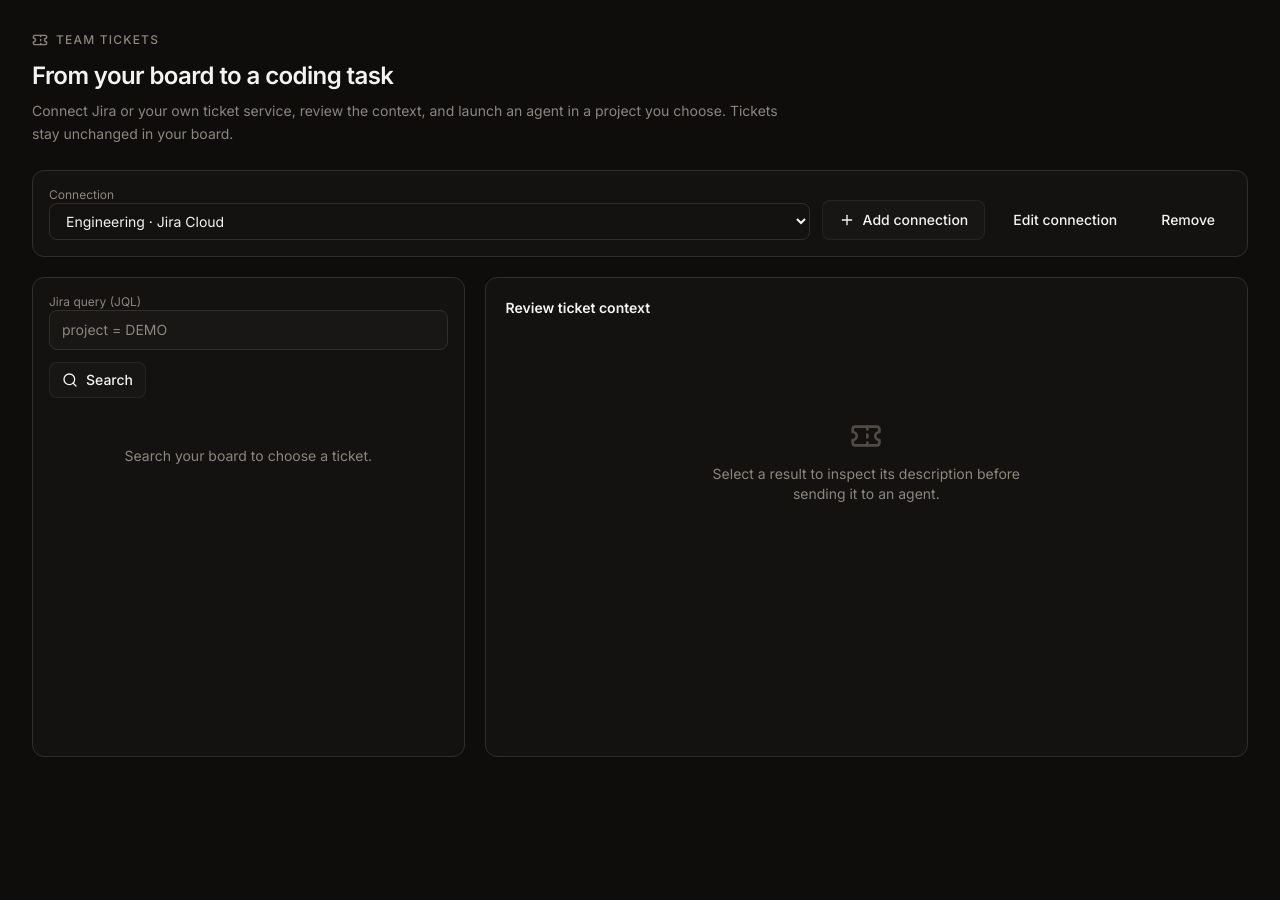
desktop ticket intake › removes a connection only after confirmation and clears the preview
Click the button "Search" at (98, 380), box [49,362,146,398]
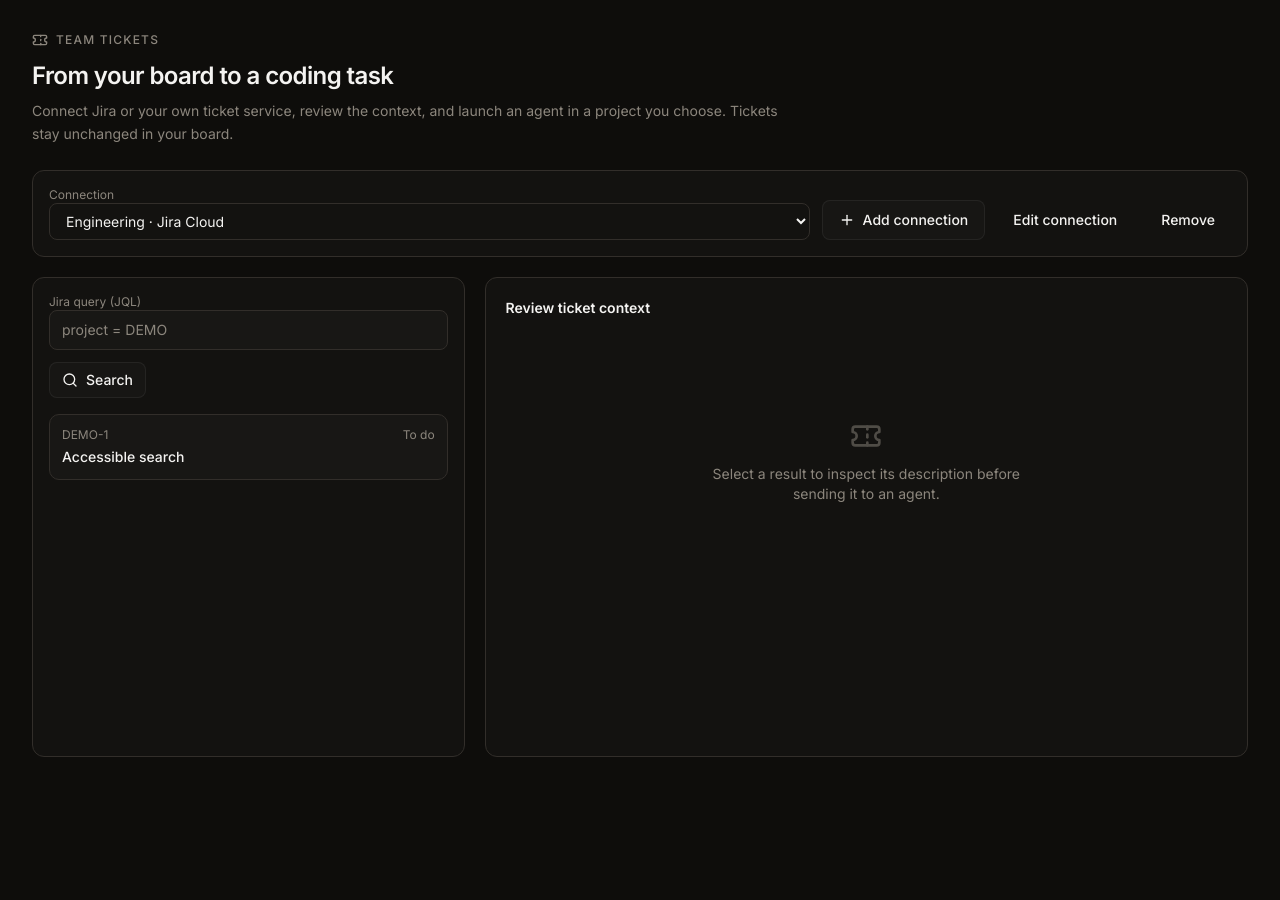
Click the button "DEMO-1 To do Accessible search" at (85, 434), box [49,414,448,480]
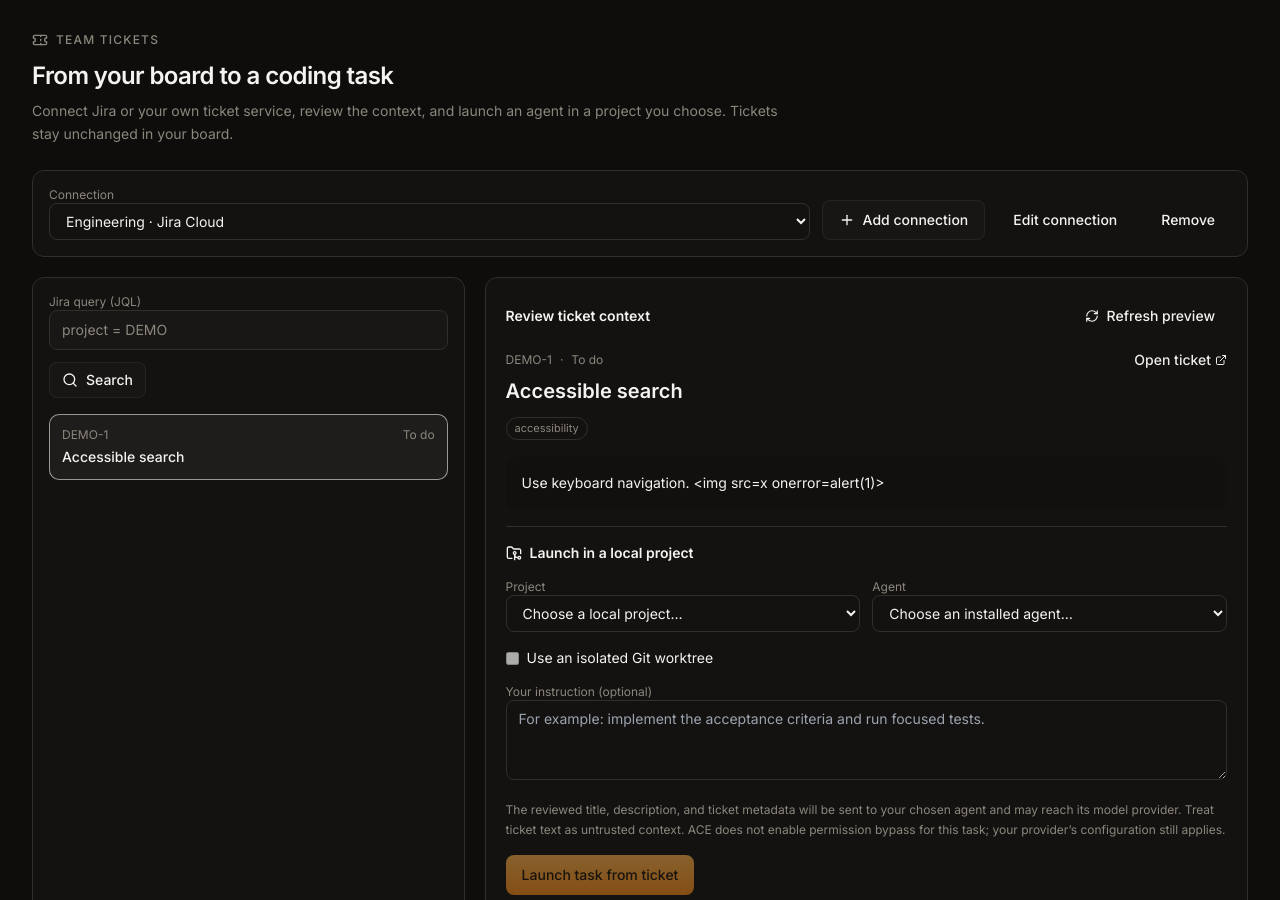
Click the button "Remove" at (1188, 220), box [1145,200,1231,240]
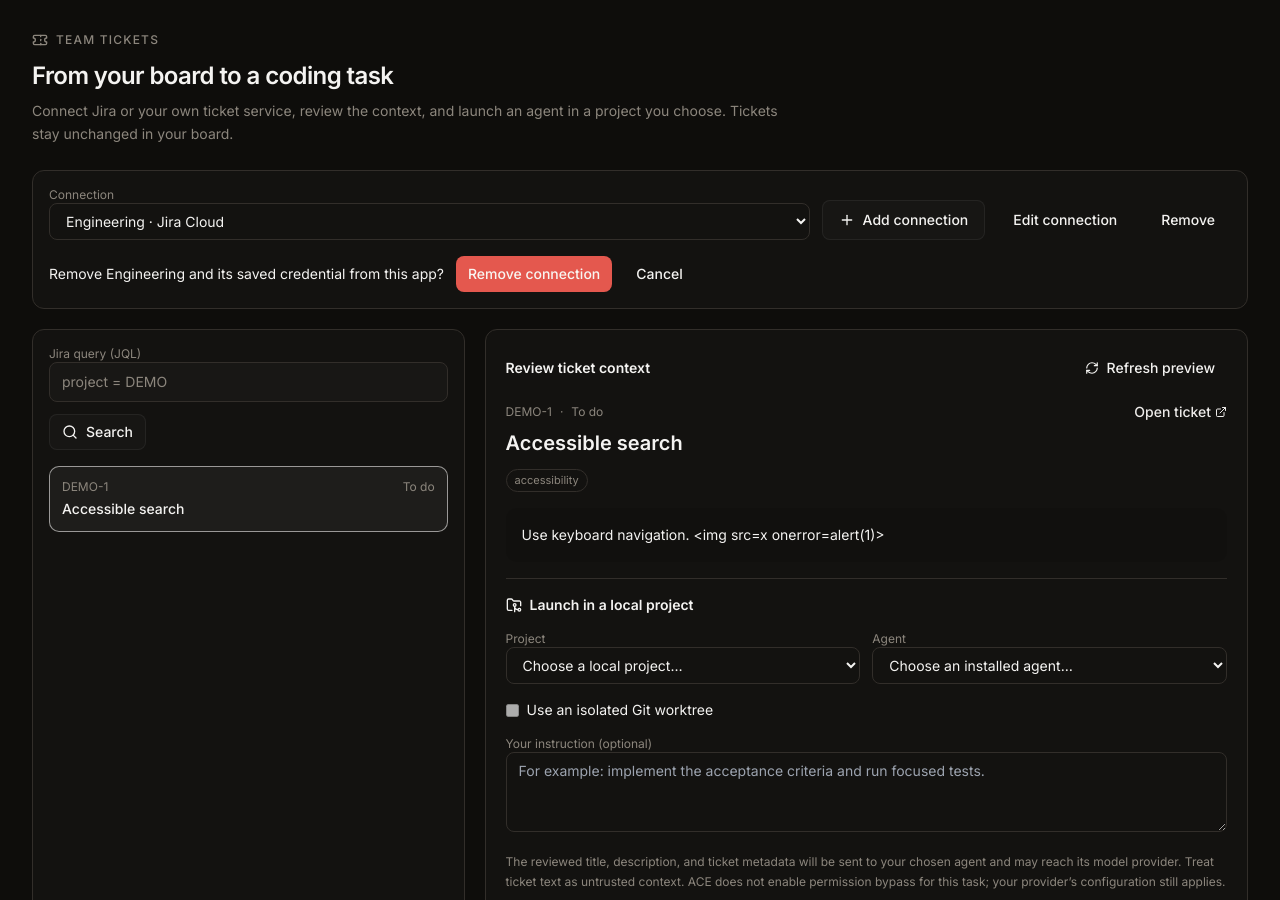
Click the button "Remove connection" at (534, 274), box [456,256,612,292]
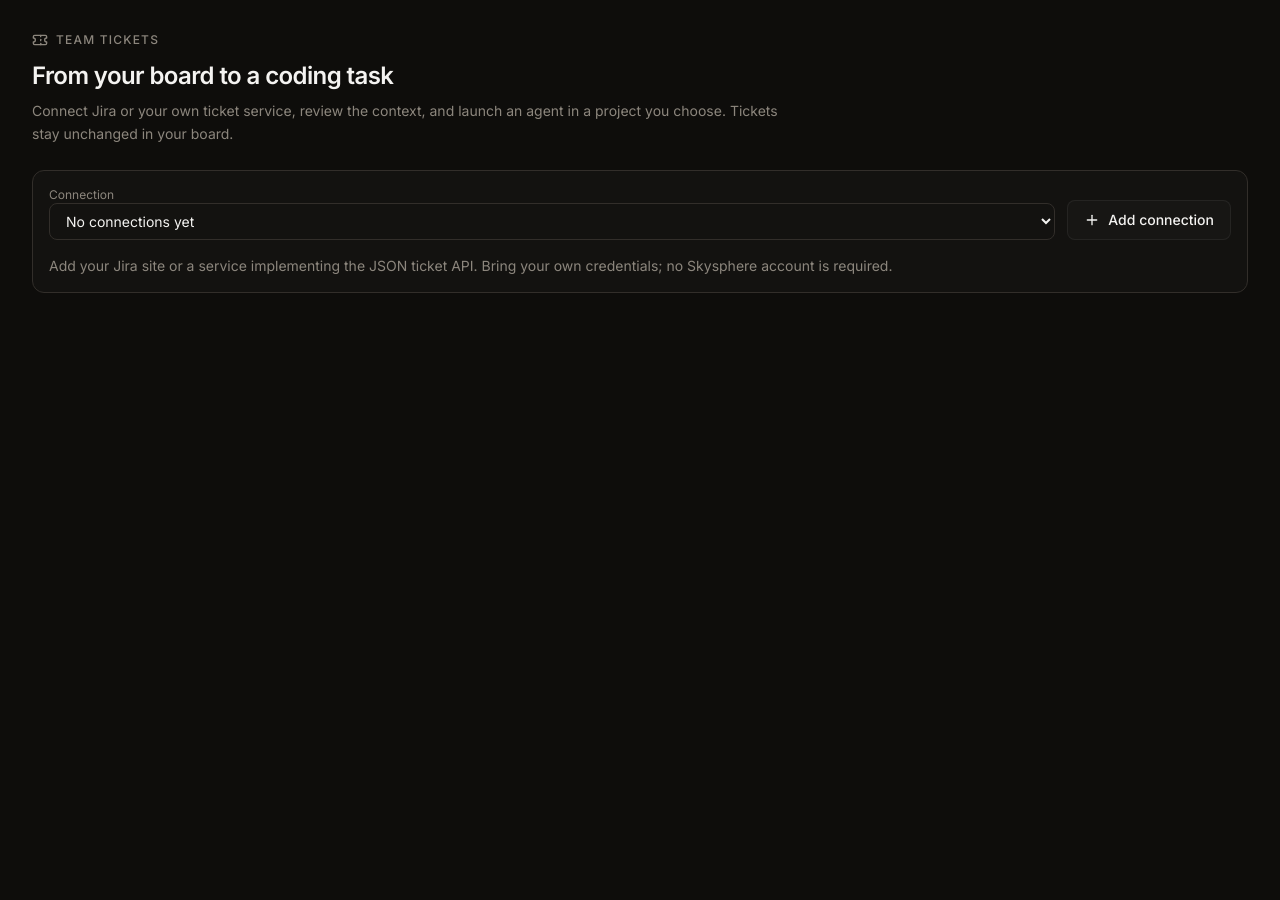
Expected: the heading "Accessible search" is gone
